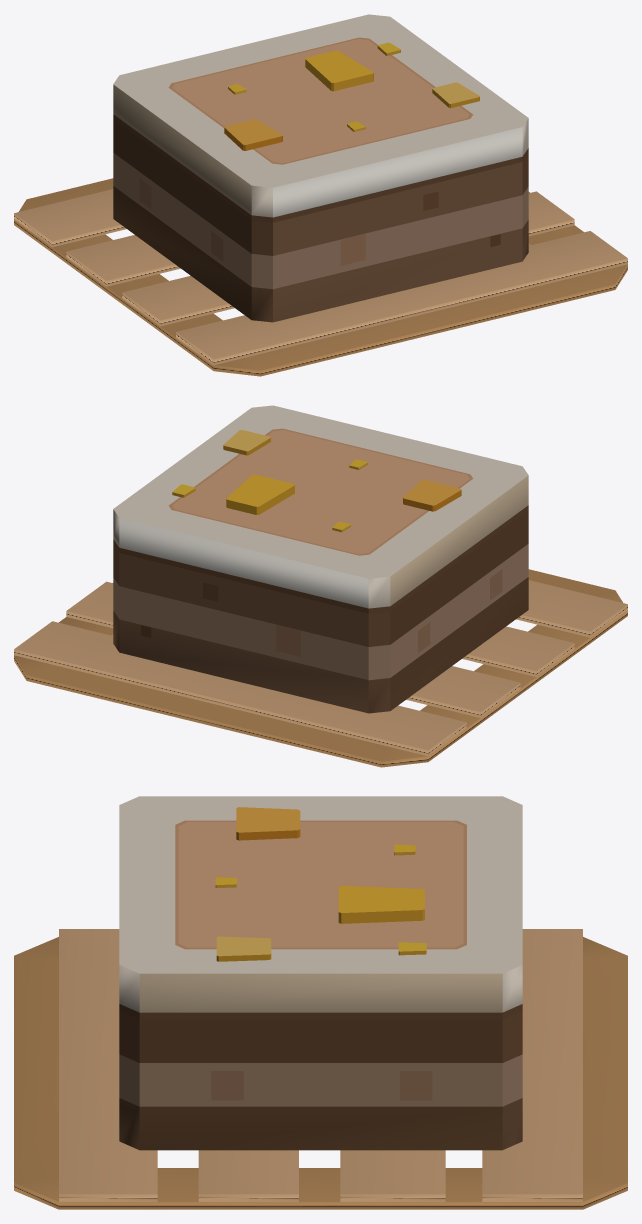
Rendered from BC_cookrecipe_S_39.fbx.
3 renders of one model, top to bottom at view 1: azimuth 30°, elevation 25°; view 2: azimuth 150°, elevation 25°; view 3: azimuth 270°, elevation 25°, orthographic. The views are drawn at different scales.
Visible parts, largest first — view 1: model, base; view 2: model, base; view 3: model, base.
Part boxes in pixels (left/top/right/bottom): model: left=113, top=14, right=528, bottom=322; base: left=14, top=178, right=627, bottom=376; model: left=113, top=405, right=528, bottom=713; base: left=14, top=569, right=627, bottom=767; model: left=119, top=796, right=522, bottom=1150; base: left=14, top=929, right=627, bottom=1209.
Bounding box in the file's own units: 3.54 × 1.26 × 3.47.
